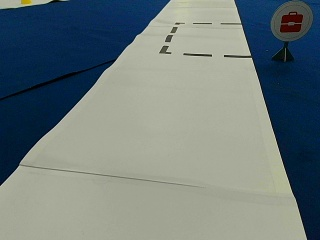company: (271, 2, 313, 40)
